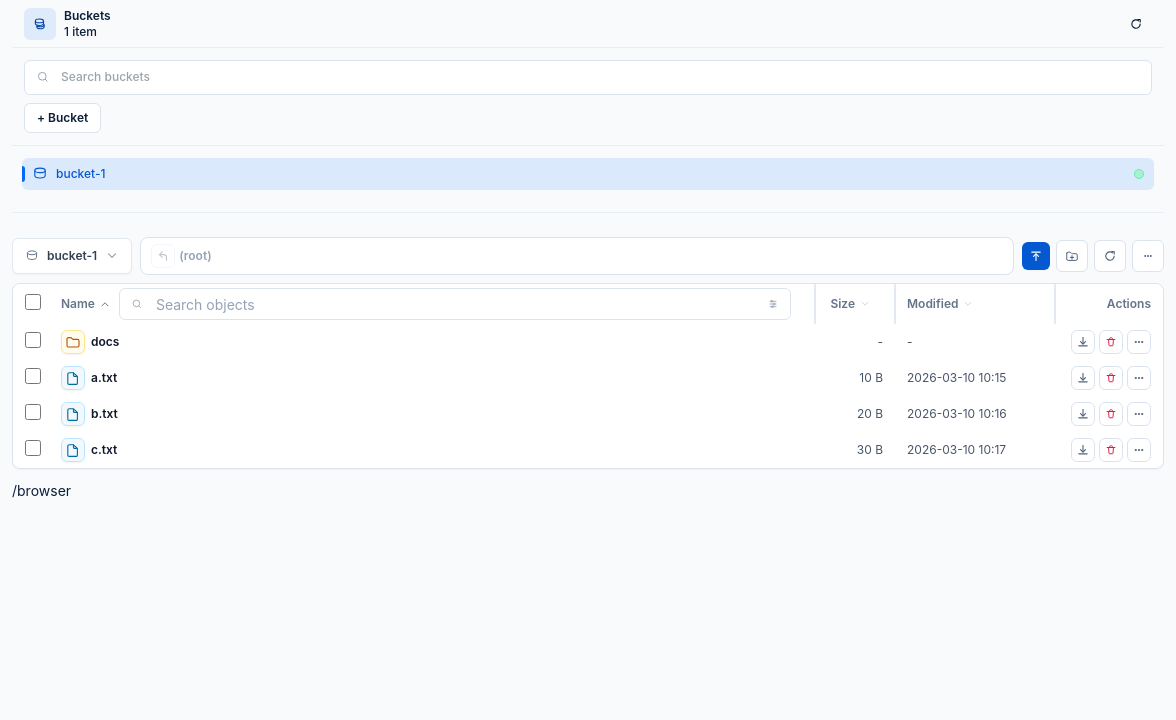
BrowserPage interactions › uses the explicit connection kind for transfer guidance
Step 1. Click the button named "More" → (1148, 256), box top-left (1132, 240), bottom-right (1164, 272)
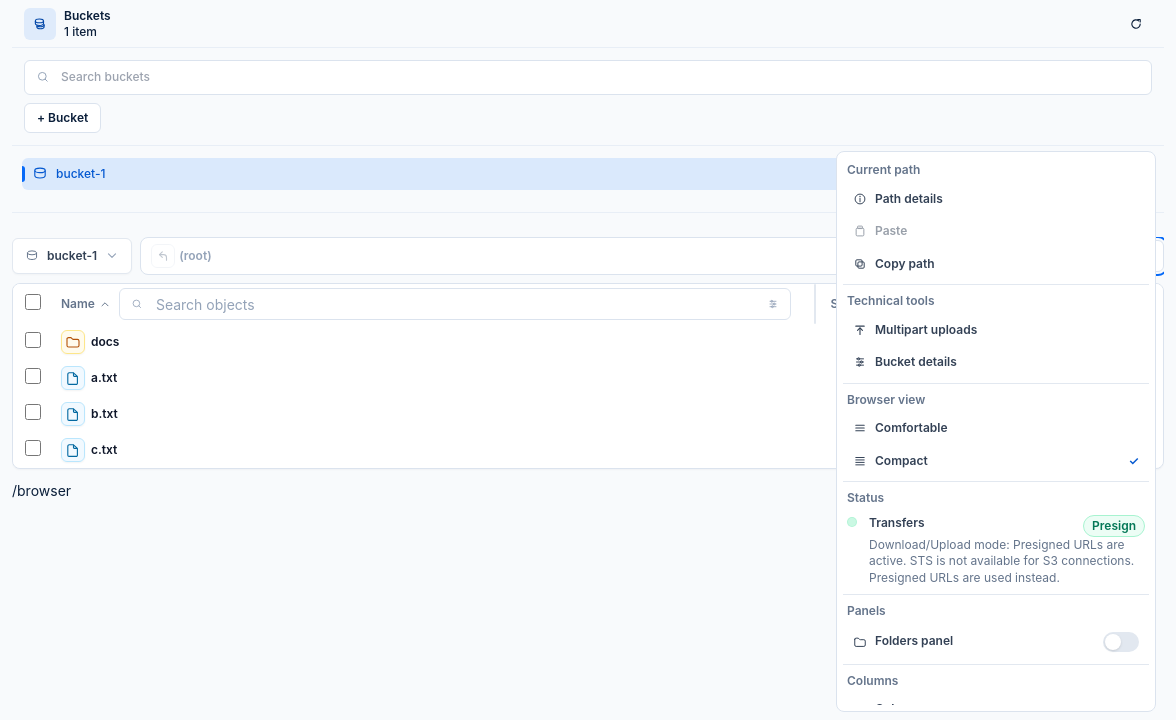
Check: the menu named "More" is shown, box top-left (843, 158), bottom-right (1149, 705)
Check: the text "Download/Upload mode: Presigned URLs are active. STS is not available for S3 connections. Presigned URLs are used instea" is shown, box top-left (869, 536), bottom-right (1134, 584)
